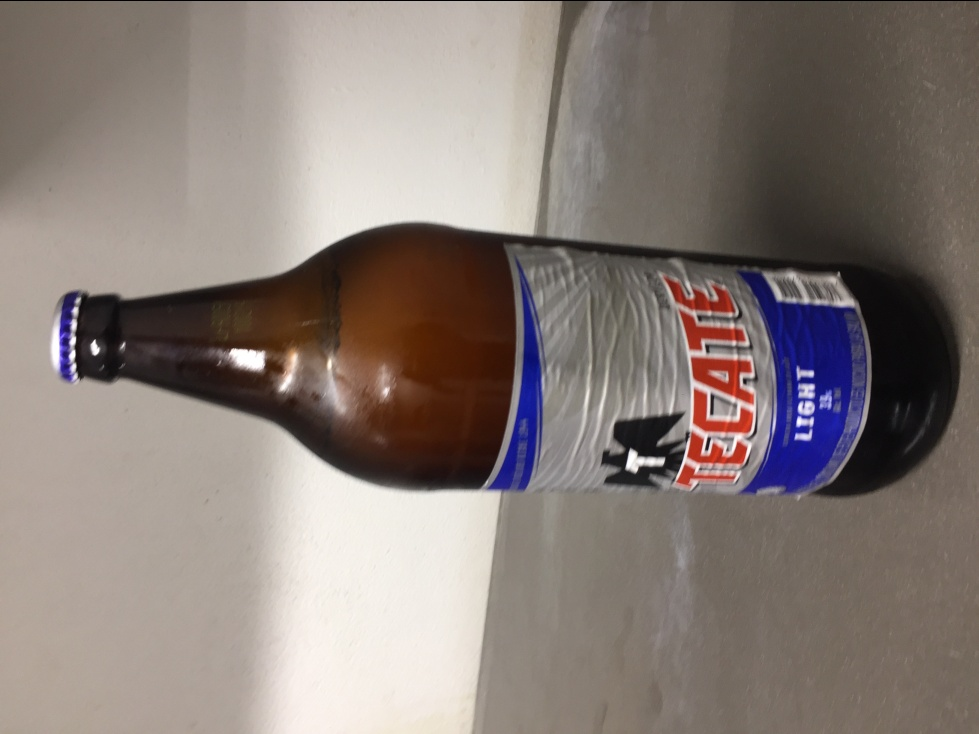tecateC: (54, 217, 961, 505)
